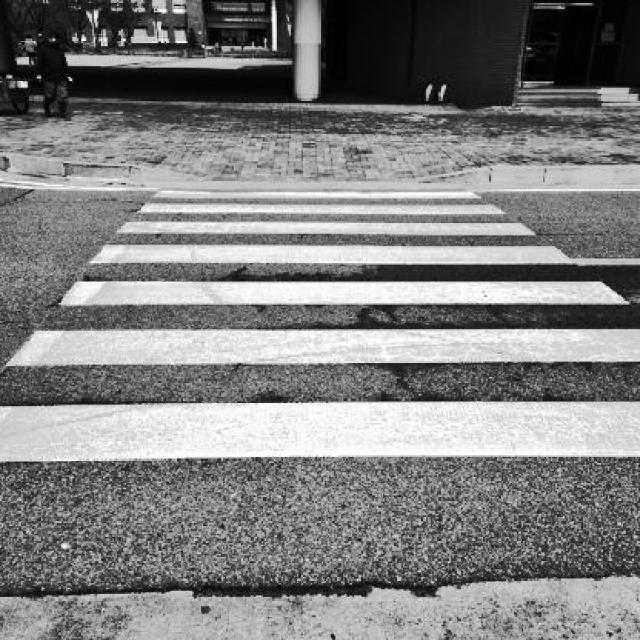crosswalk: (0, 188, 640, 464)
